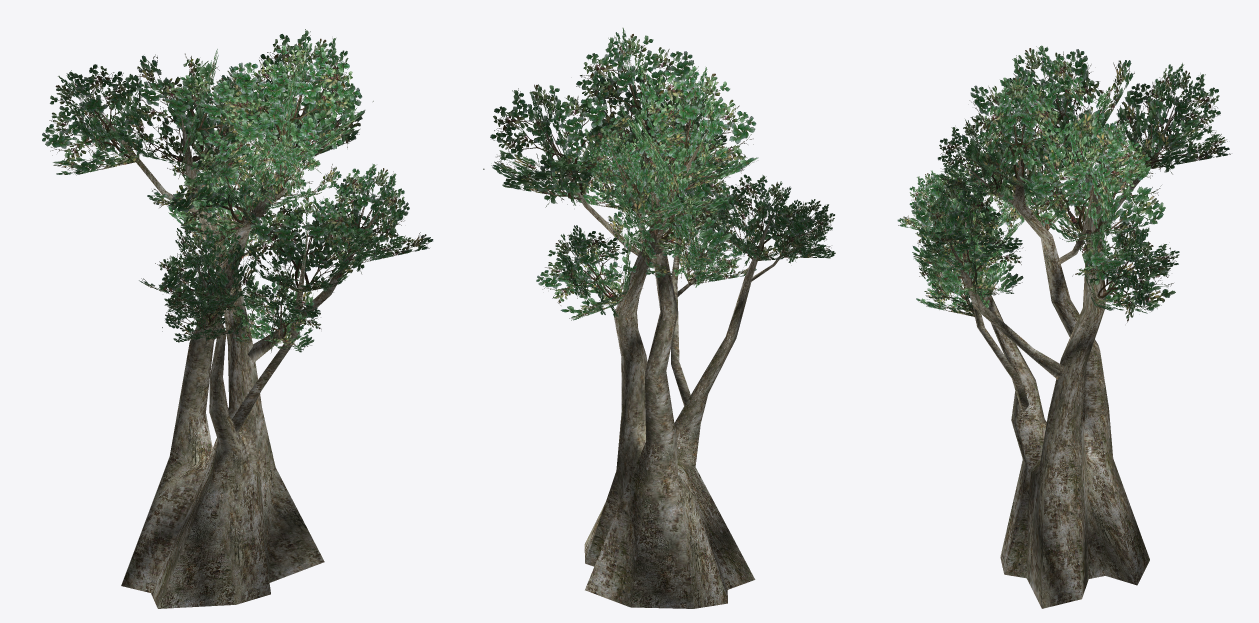
Rendered from decd_hollytreeleaves_a1_l0.fbx.
The picture shows the model from 3 angles, left to right: view 1: azimuth 30°, elevation 25°; view 2: azimuth 150°, elevation 25°; view 3: azimuth 270°, elevation 25°; orthographic projection. The views are drawn at different scales.
Visible parts, largest first — view 1: mesh_node; view 2: mesh_node; view 3: mesh_node.
Boxes of the visible parts, x1,y1,x2,y2 form: mesh_node: [42, 29, 433, 608]; mesh_node: [483, 28, 835, 608]; mesh_node: [897, 45, 1230, 608].
Bounding box in the file's own units: 10.29 × 17.18 × 10.91.
